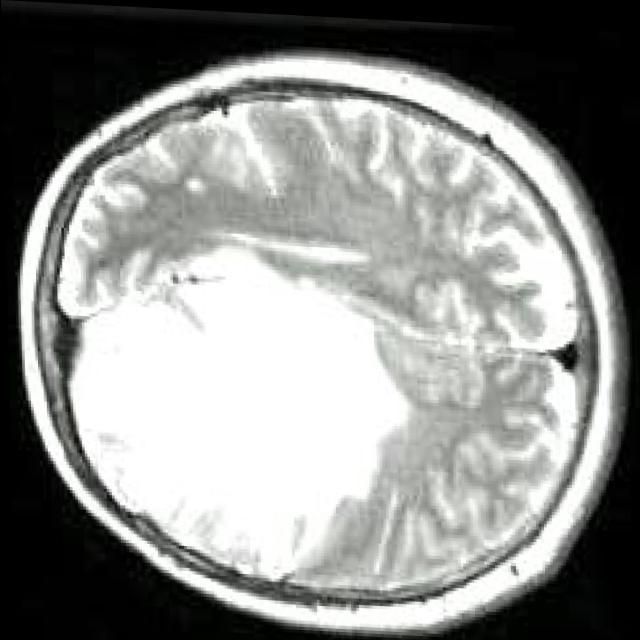Tumor: (70, 250, 410, 576)
